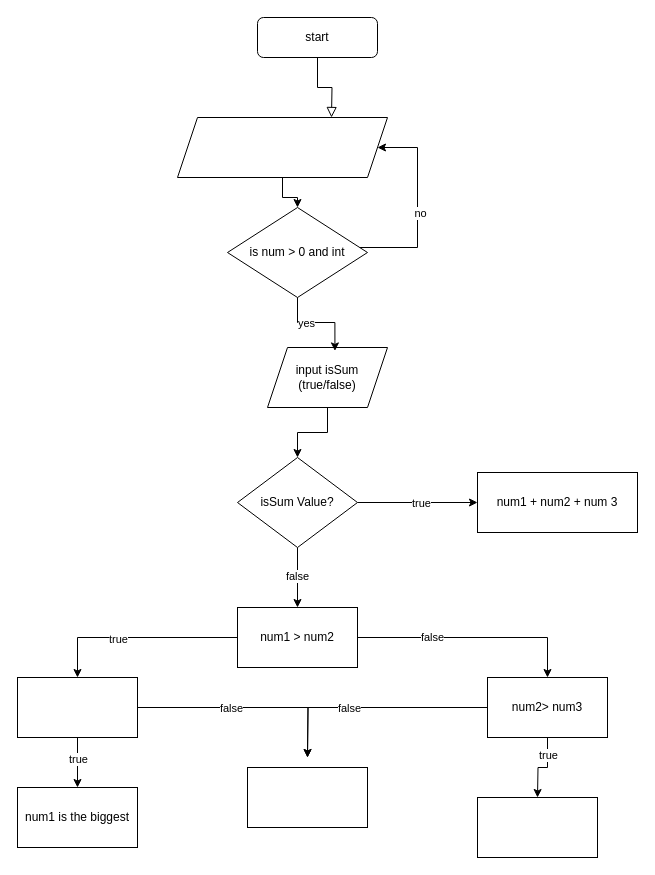
Some shapes in this 655 by 875 pixel diagram are drawn without their labels. The box of each missing label's shape, as (x1, y1, x2, y2) in pixels:
input 3 int. (num1, num2, num3): (176, 116, 388, 178)
num1> num3: (16, 676, 138, 738)
num2 is the biggest: (476, 796, 598, 858)
num3 is the biggest: (246, 766, 368, 828)
